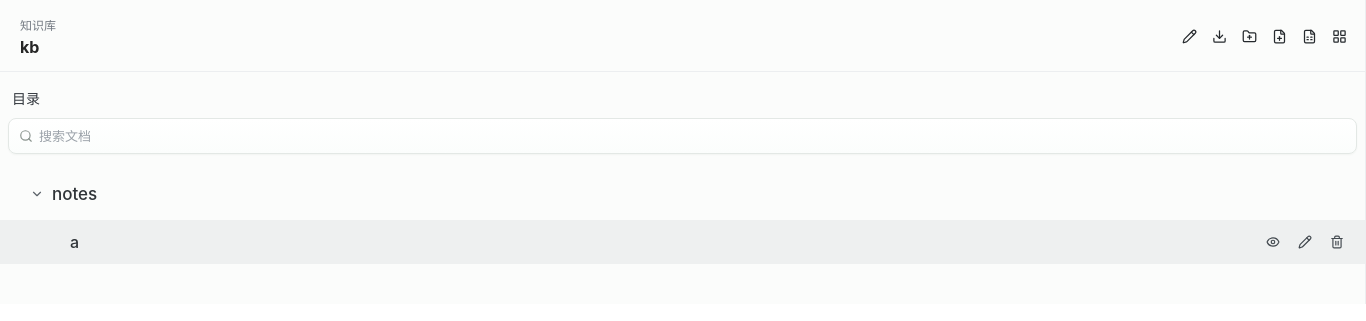
it: 目录支持展开和收起
Click the button named "收起目录 notes" at (37, 194), box x1=28 y1=180 x2=46 y2=208
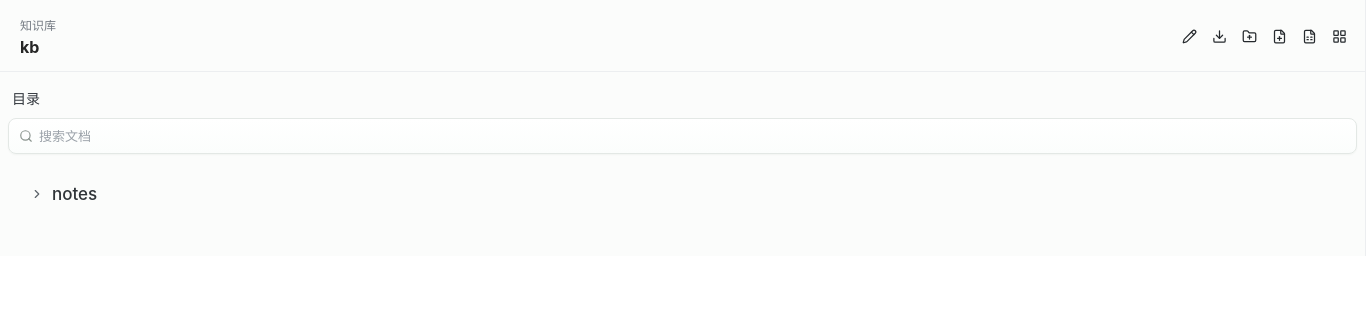
Check: the text "a" is gone
Check: the list item "notes" is collapsed, box x1=28 y1=180 x2=97 y2=208
Click the button named "展开目录 notes" at (37, 194), box x1=28 y1=180 x2=46 y2=208
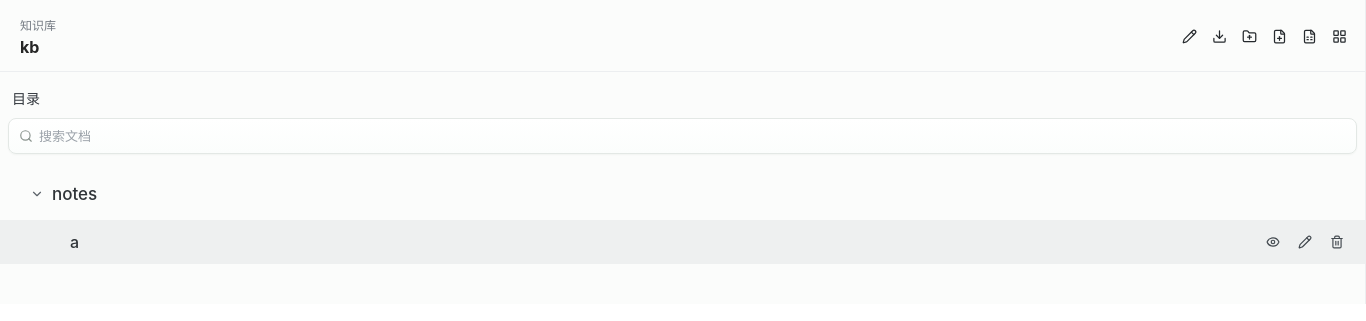
Check: the list item "a" is shown, box x1=0 y1=220 x2=1365 y2=264
Check: the list item "notes" is expanded, box x1=28 y1=180 x2=97 y2=208
